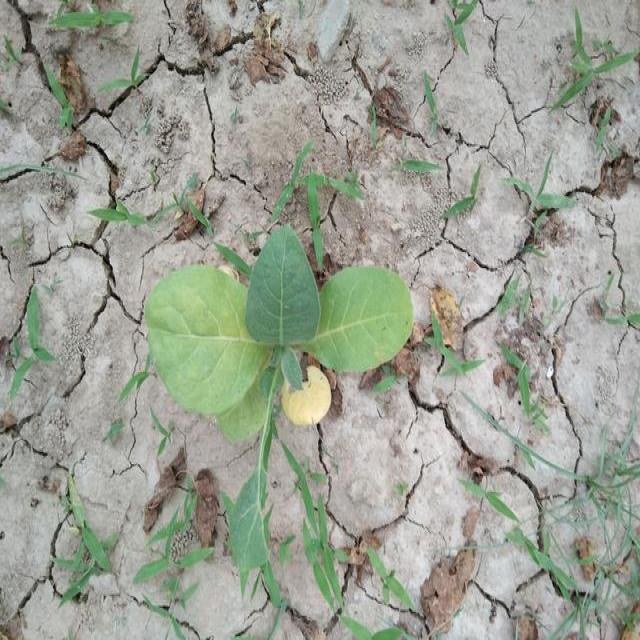crop: (138, 223, 421, 437)
